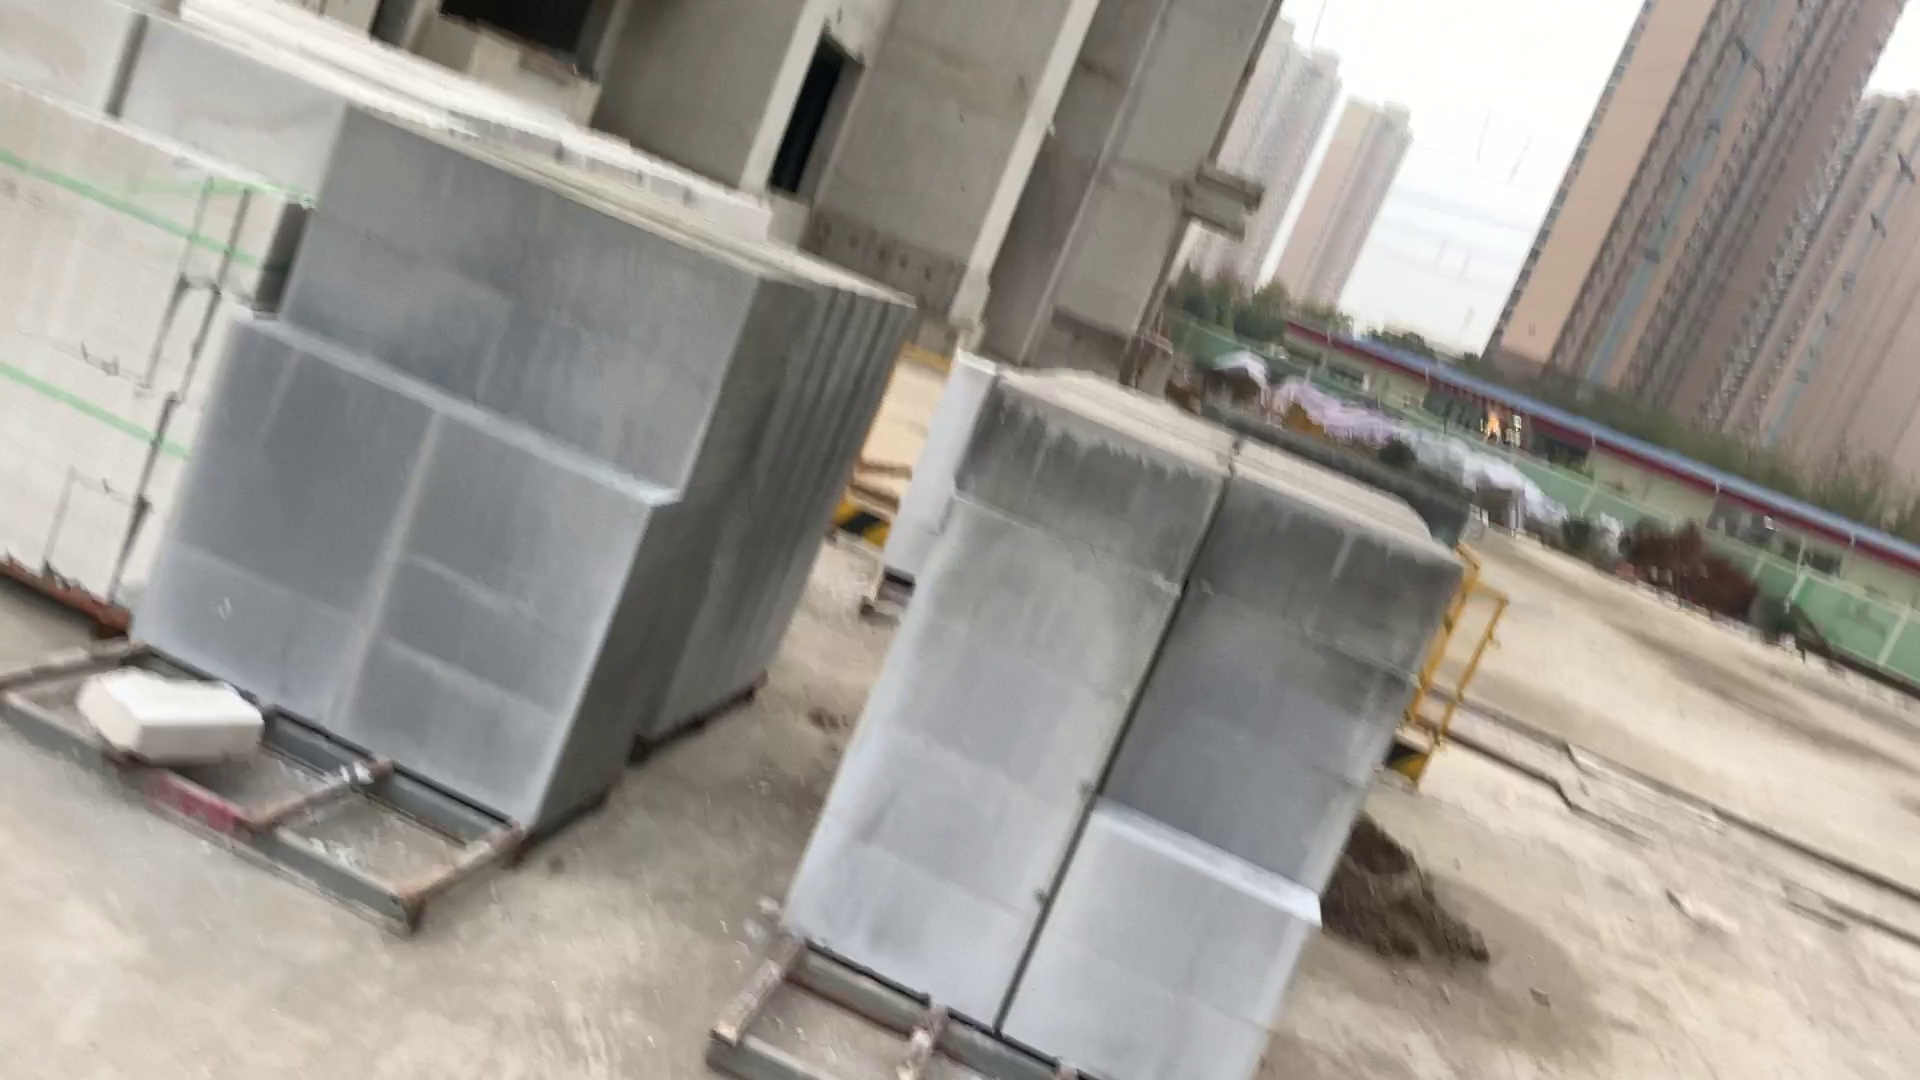brickwork: (177, 116, 869, 820), (810, 388, 1460, 1080), (3, 7, 342, 626)
